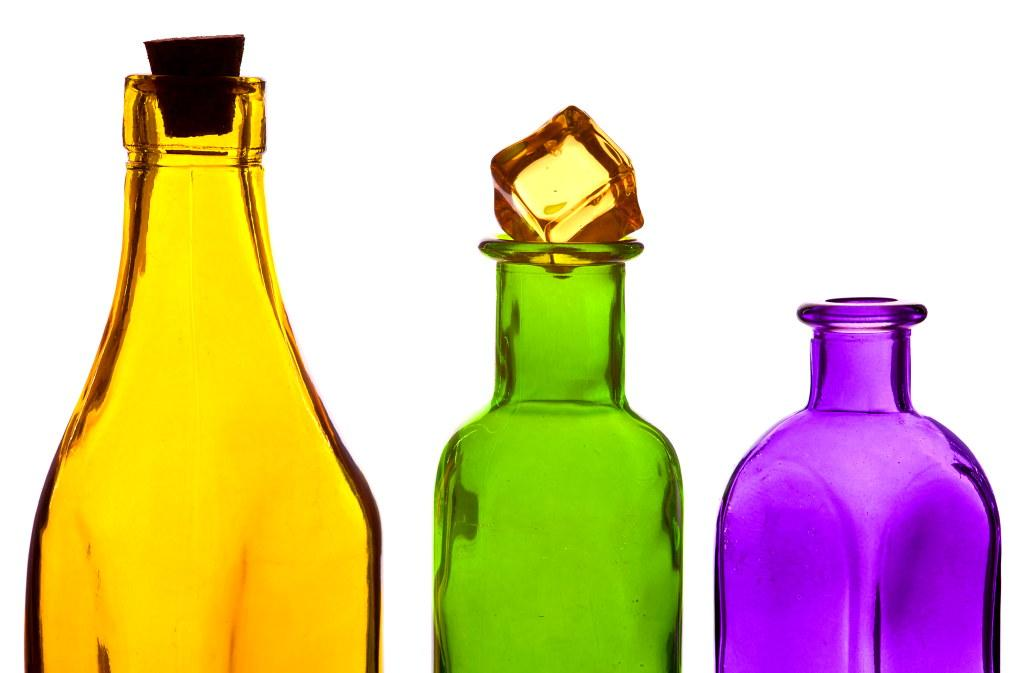bottle: (24, 34, 384, 672), (432, 105, 685, 672), (714, 296, 1003, 673)
